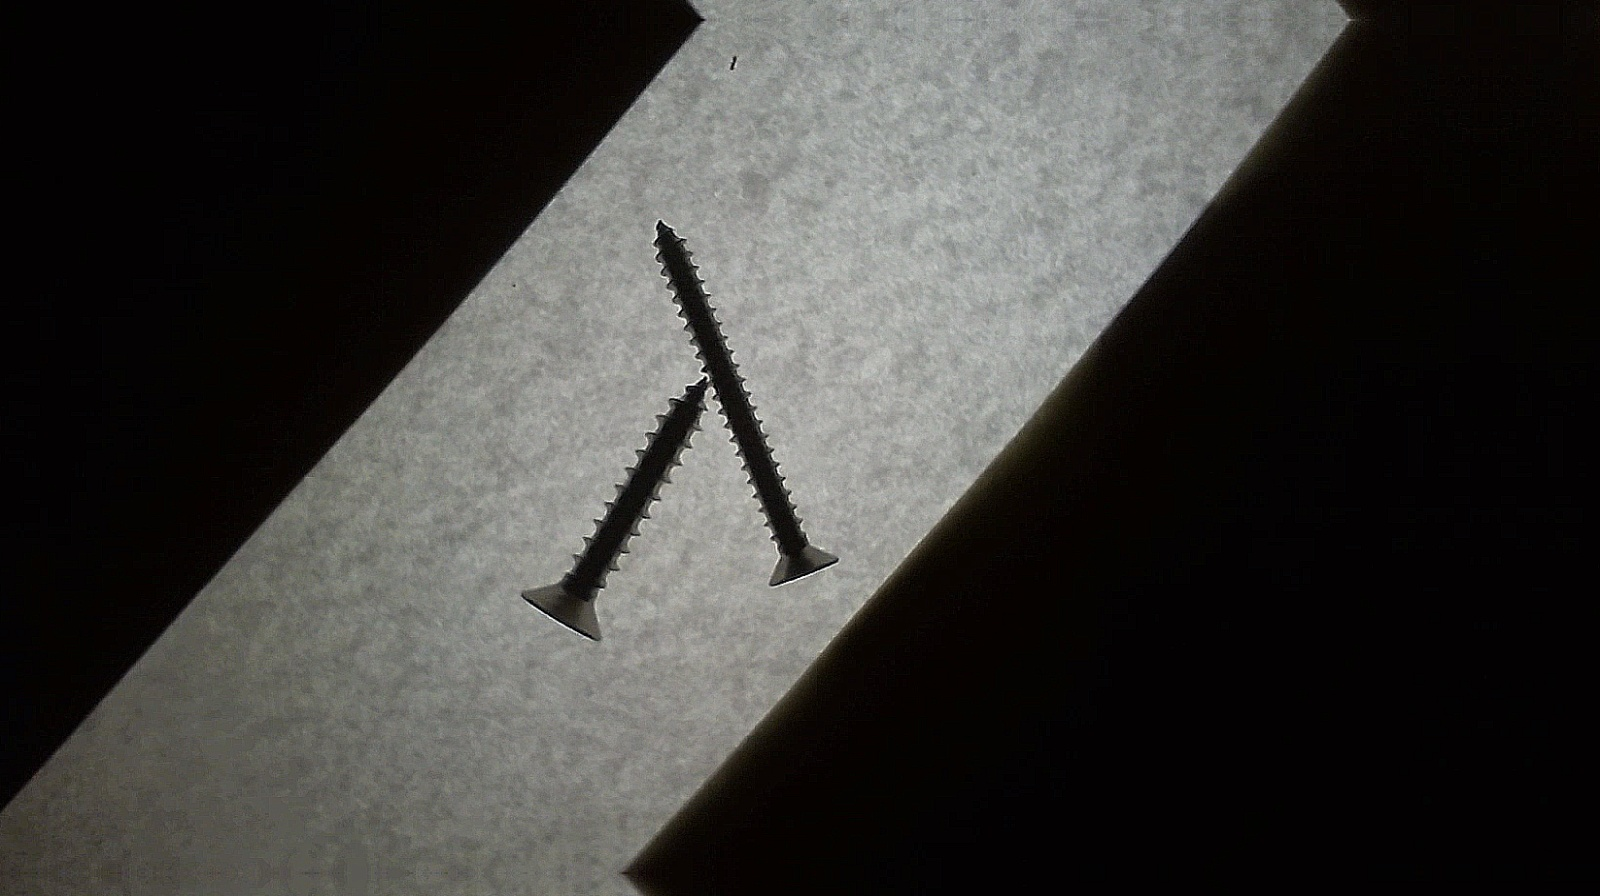S001: (513, 374, 714, 642)
S002: (648, 218, 838, 594)
